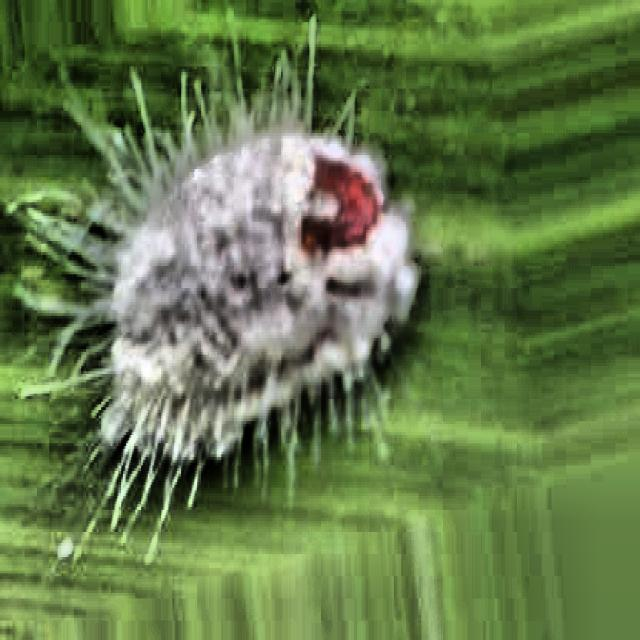Mealy-bug: (7, 21, 446, 514)
